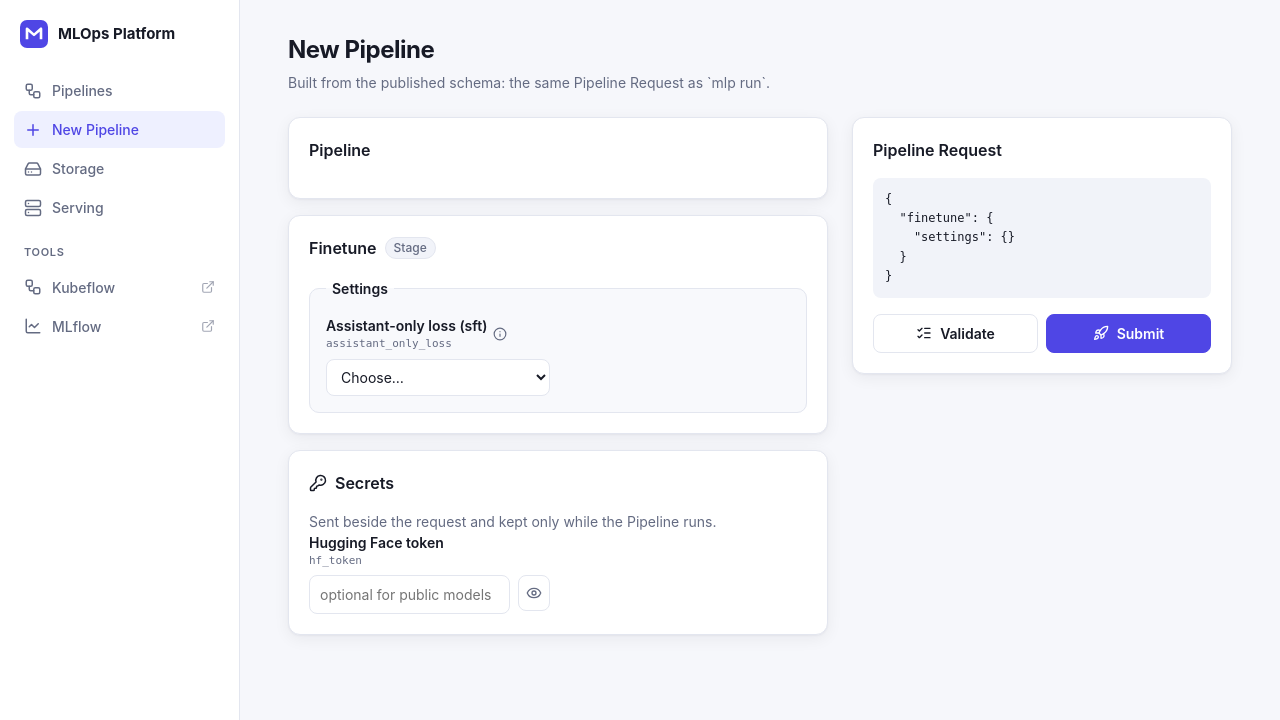
a setting with a description shows it as an infobox next to the setting
Select "true" in the dropdown labelled "Assistant-only loss (sft) assistant_only_loss" at point(438, 377), box [326, 358, 550, 396]
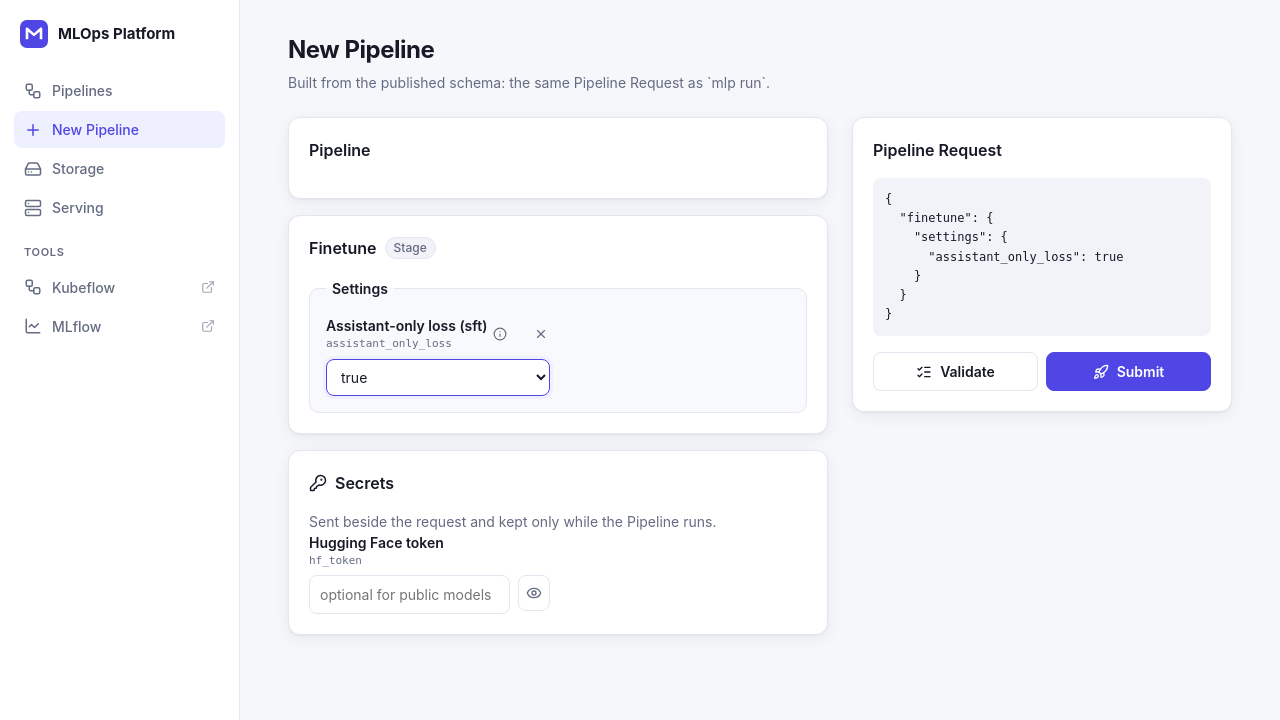
Click the button "Submit" at point(1128, 372), box [1046, 352, 1211, 391]
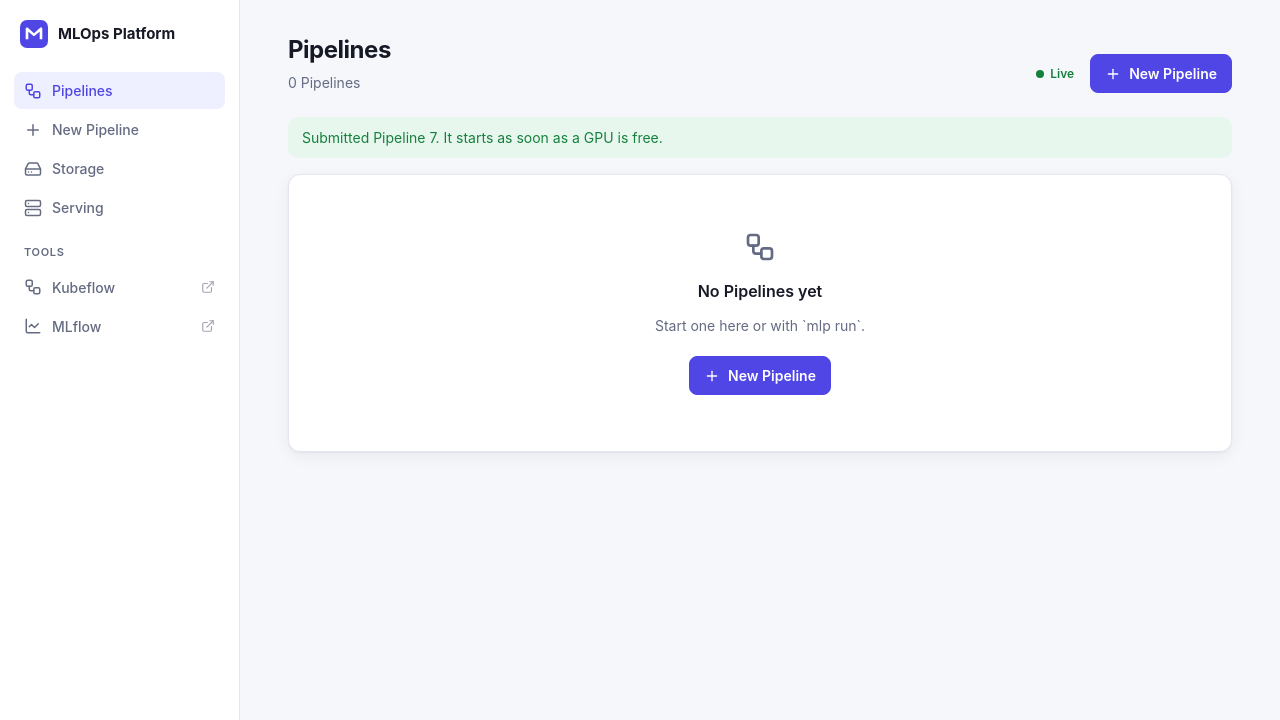
Now the text "Submitted Pipeline 7. It starts as soon as a GPU is free." is shown, box [288, 117, 1232, 158]
